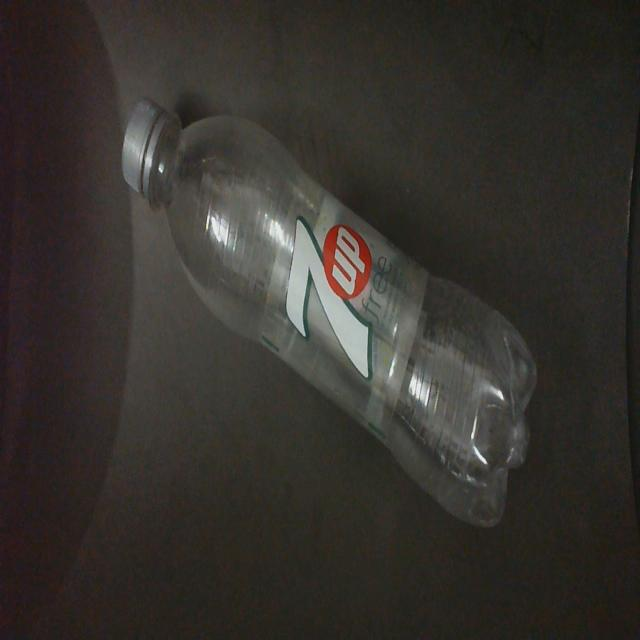non-defect: (120, 92, 540, 534)
